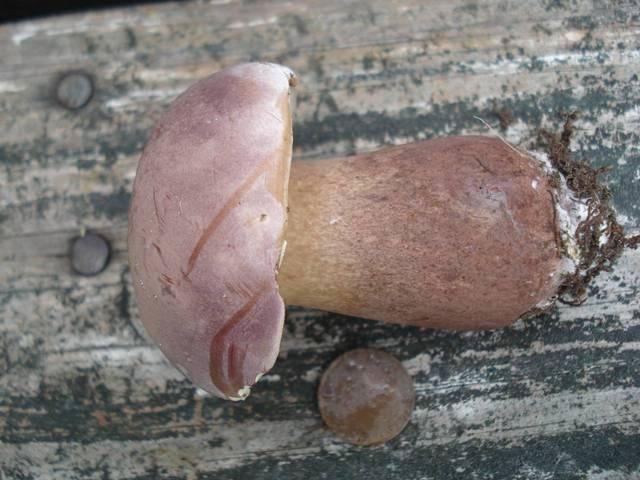Non-edible Mushroom: (125, 59, 576, 402)
